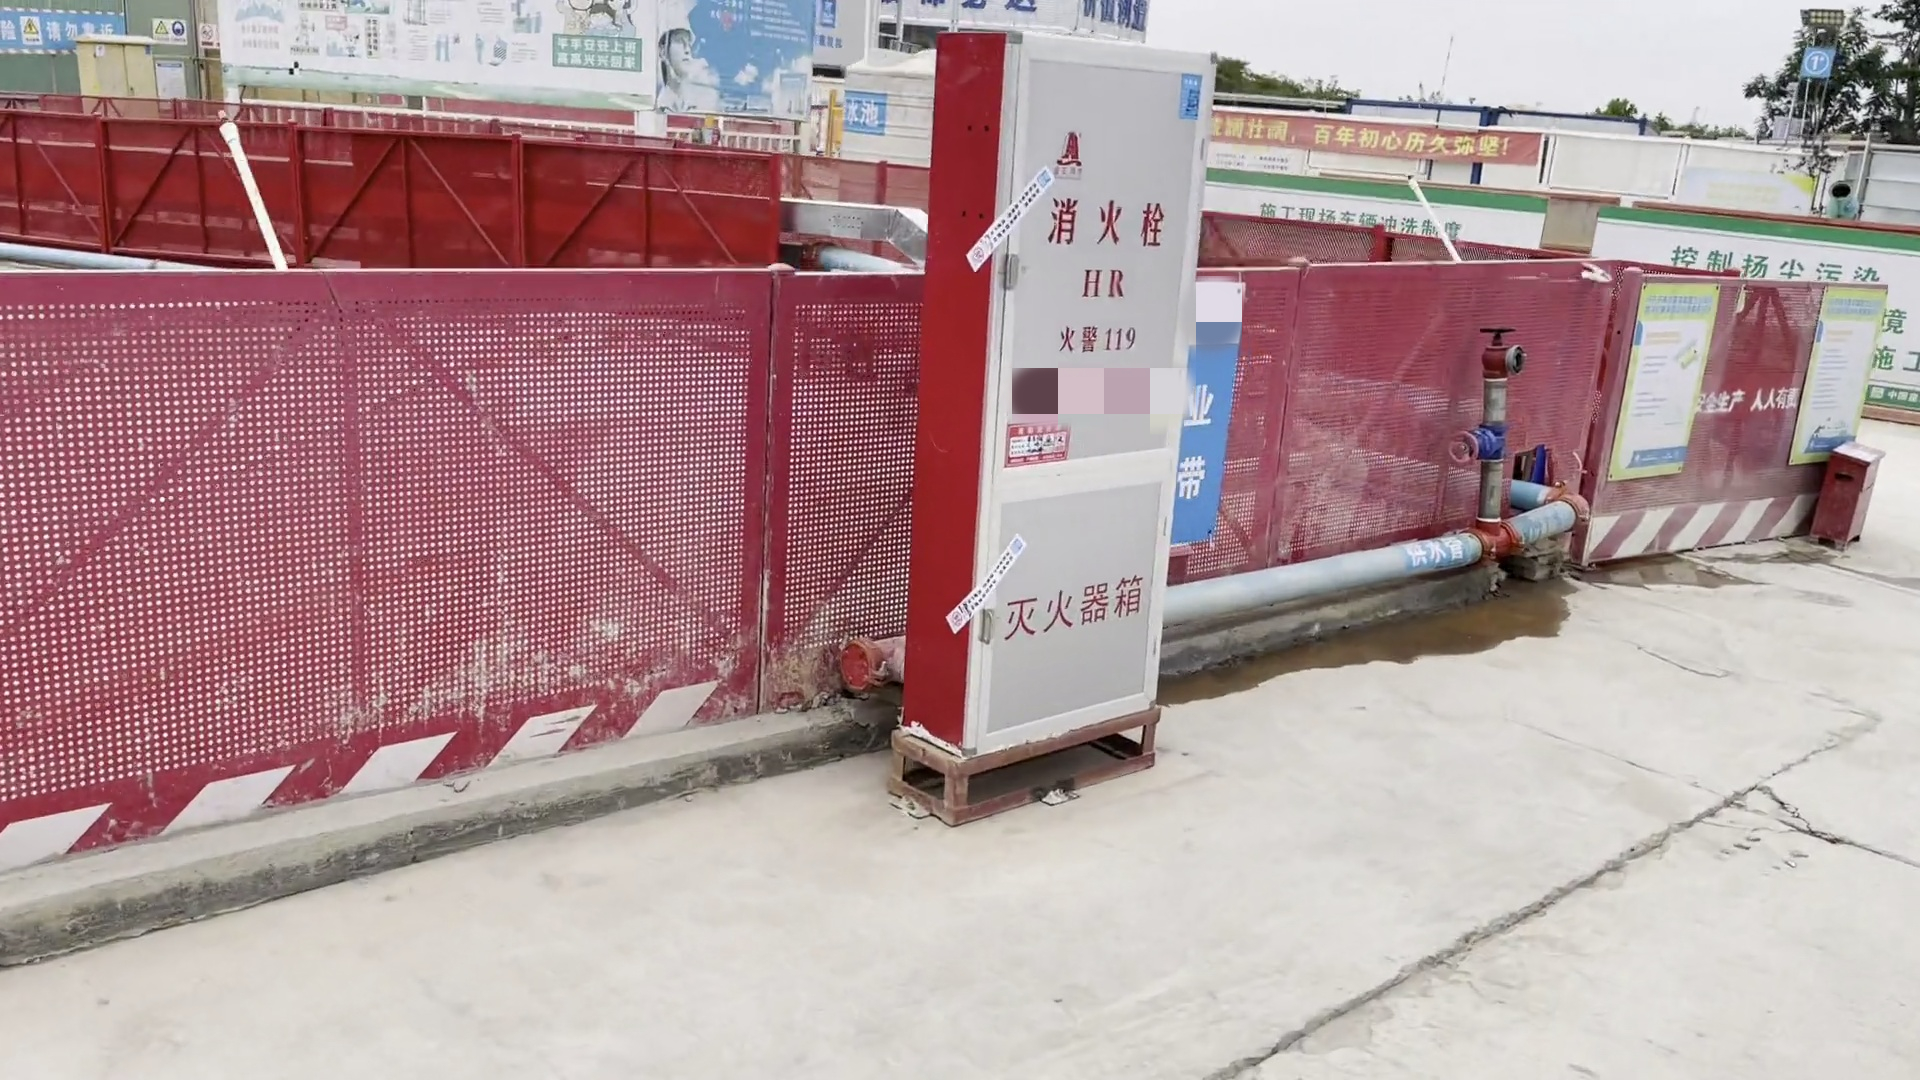fence: (12, 266, 1553, 891), (3, 105, 802, 316), (1563, 258, 1894, 568)
slogan: (1212, 109, 1538, 170), (1, 1, 131, 66)
